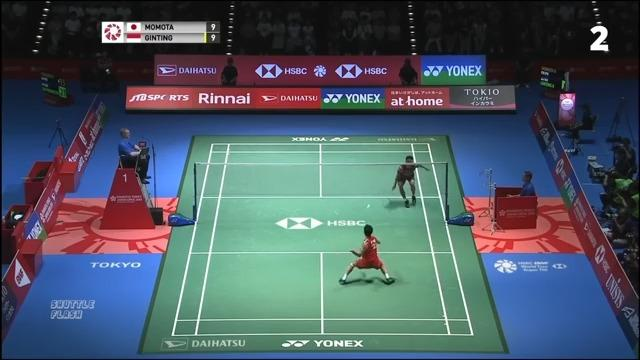Shuttlecock: (363, 200, 373, 211)
